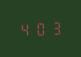four: (18, 21, 31, 37)
three: (47, 19, 60, 35)
zero: (33, 20, 46, 36)
